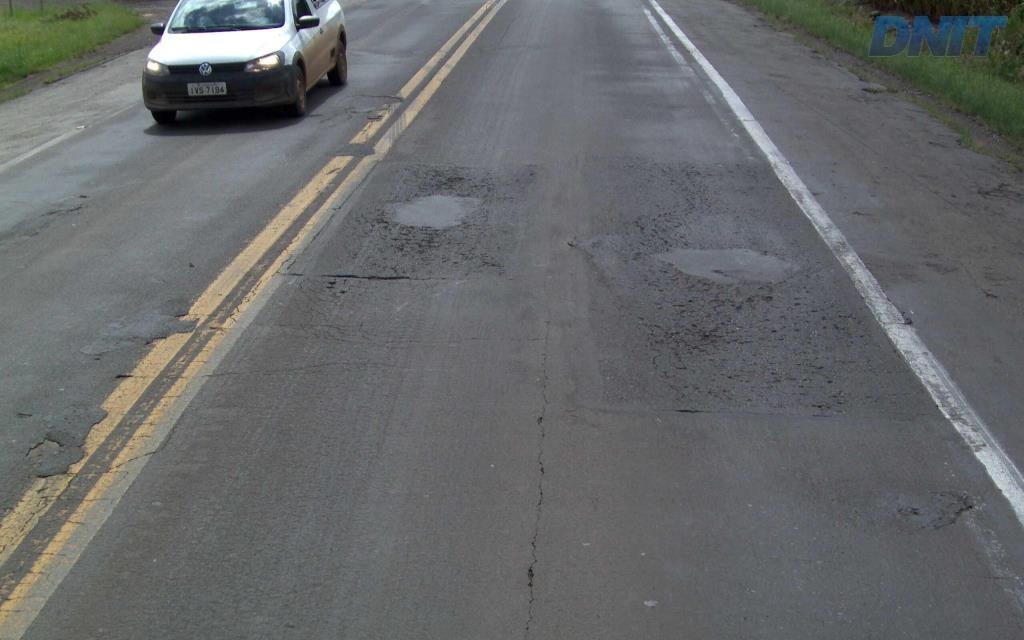crack: (663, 319, 753, 355), (322, 264, 410, 289), (390, 225, 441, 256)
